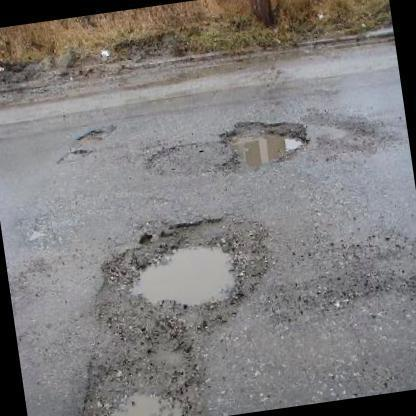pothole: (98, 212, 268, 339), (75, 345, 202, 416), (215, 116, 311, 178), (58, 121, 120, 164)
